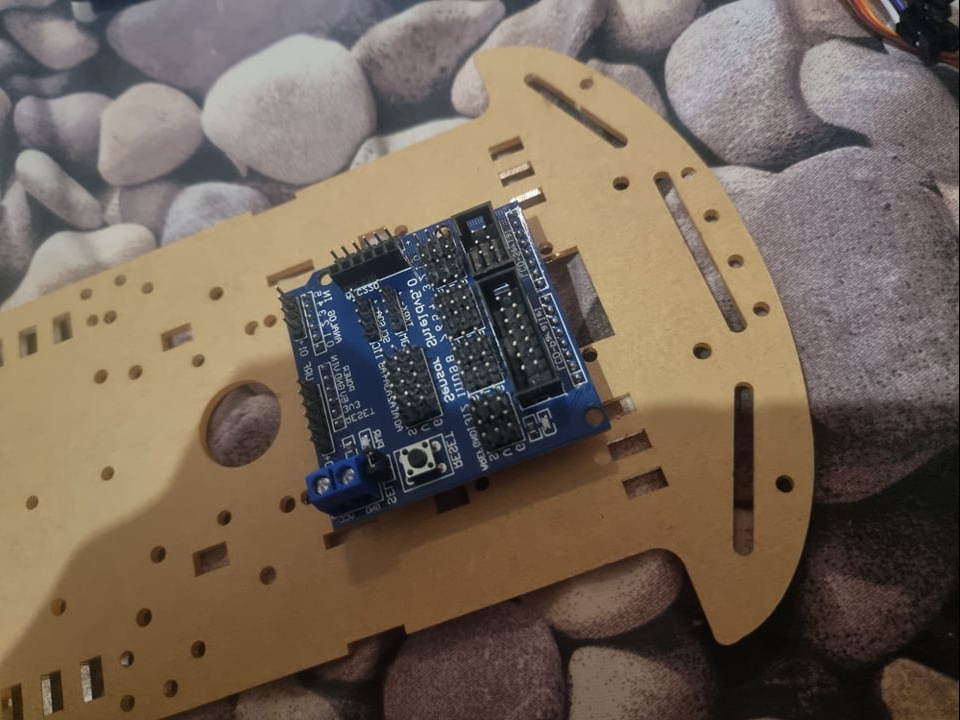5V EXPANSION: (275, 198, 616, 528)
